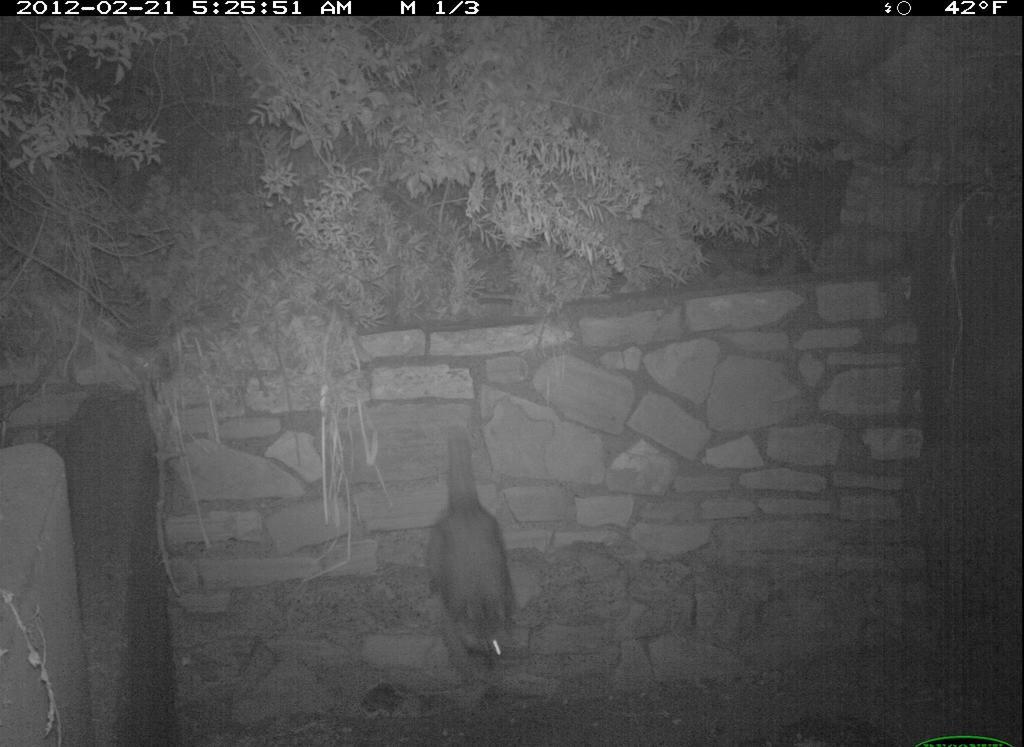raccoon: (418, 428, 525, 699)
